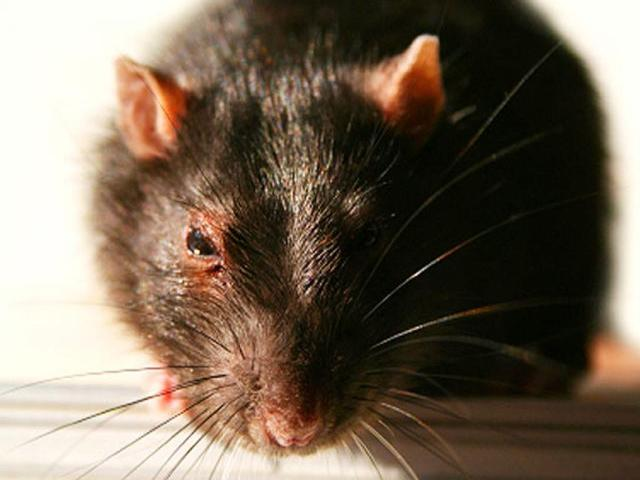Tikus: (80, 0, 615, 458)
